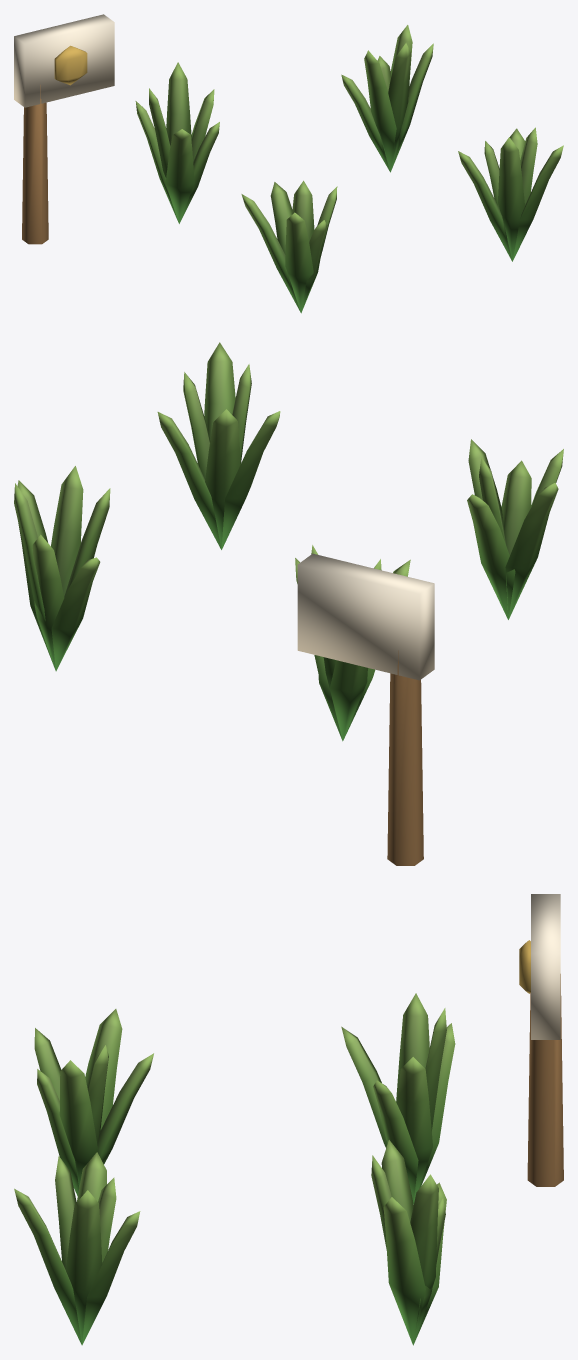
Rendered from prop-crop-rice-young.glb.
The picture shows the model from 3 angles, top to bottom: view 1: azimuth 30°, elevation 25°; view 2: azimuth 150°, elevation 25°; view 3: azimuth 270°, elevation 25°; orthographic projection. The views are drawn at different scales.
Parts seen in each view (by area): view 1: leaf, body; view 2: leaf, body; view 3: leaf, body.
Boxes of the visible parts, x1,y1,x2,y2 form: leaf: (135,25,563,313); body: (14,14,114,244); leaf: (14,342,563,741); body: (297,553,434,865); leaf: (14,993,455,1345); body: (519,894,563,1186).
Bounding box in the file's own units: 0.677 × 0.3675 × 0.6641.
